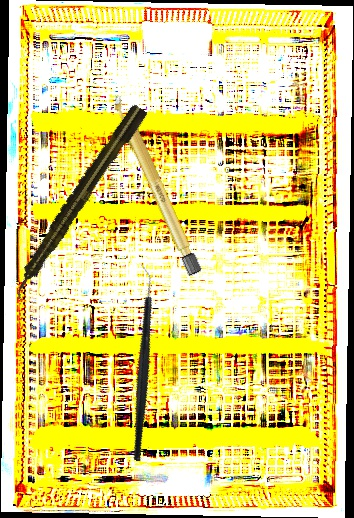Chopper: (65, 262, 215, 463)
Handpiece: (5, 102, 150, 302)
Scalpel Handle: (108, 91, 204, 278)
